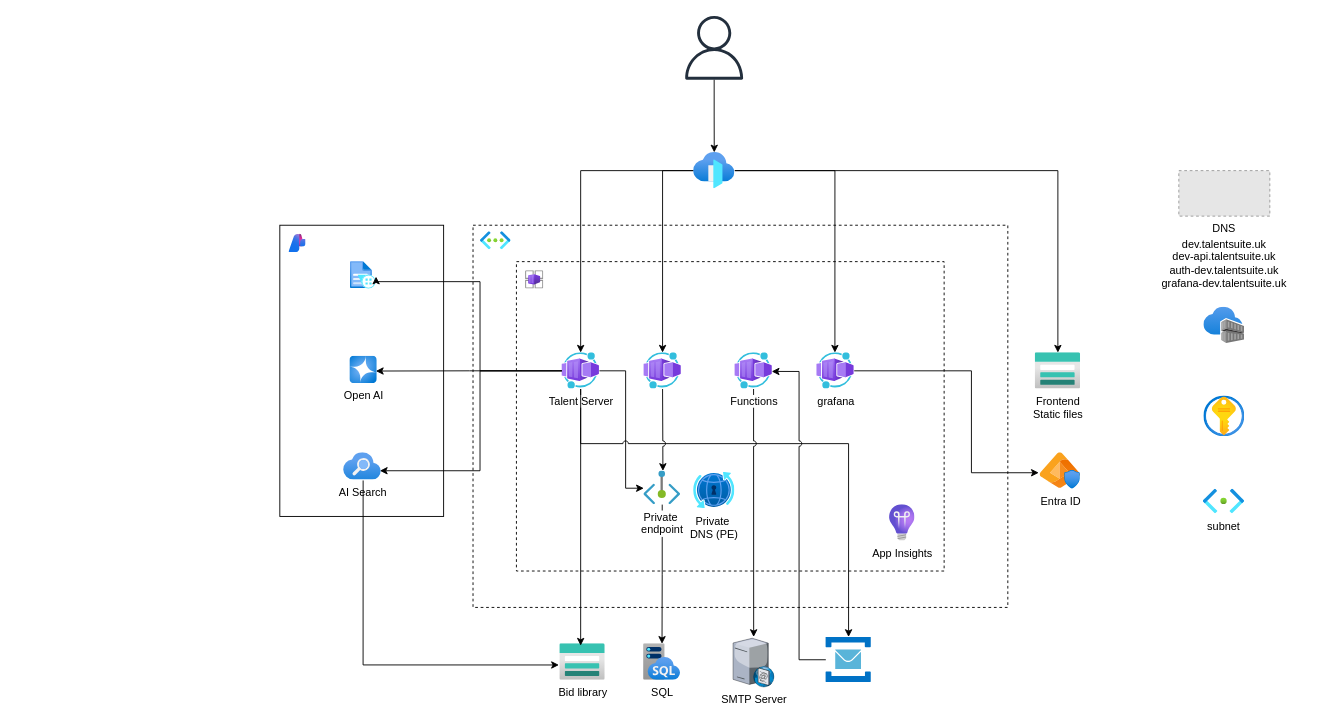
Image size: 1321x722. Some labels were removed from this diagram. Grey dashed boxes stand in for pictures. The shapes that lost their labels are listed below. From the top down, each one's centre as x and y in pixels, then its label:
pixel 713 170: Front door
pixel 362 274: Document intelligence
pixel 534 279: DEV
pixel 1223 325: Container registries
pixel 662 370: Key cloak
pixel 1223 415: Key Vault
pixel 848 659: ServiceBus
